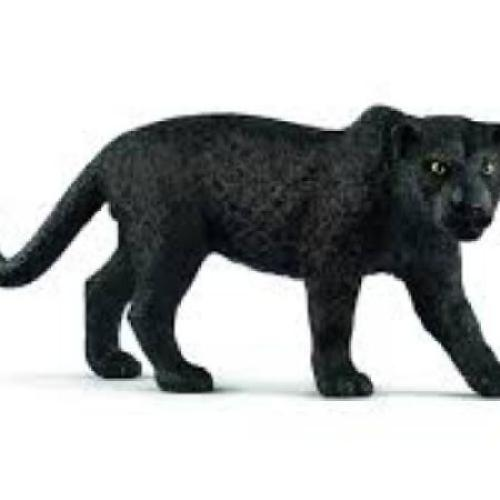panther-endangered: (68, 110, 500, 385)
